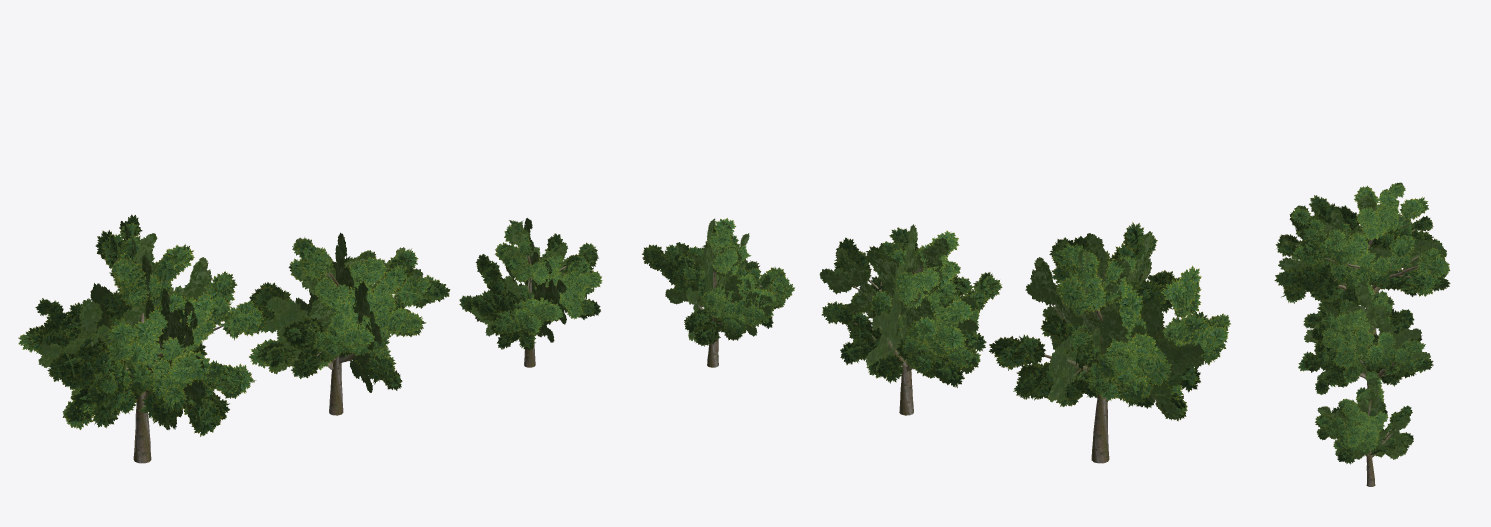
The model's file is tree_oak.glb.
3 views of the same model, side by side, from view 1: azimuth 30°, elevation 25°; view 2: azimuth 150°, elevation 25°; view 3: azimuth 270°, elevation 25° (orthographic). The views are drawn at different scales.
Parts seen in each view (by area): view 1: oak_v0_LOD1_leaves, oak_v1_LOD1_leaves, oak_v0_LOD0_leaves, oak_v2_LOD1_leaves, oak_v0_LOD2_impostor, oak_v1_LOD0_leaves, oak_v1_LOD2_impostor, oak_v2_LOD0_leaves, oak_v2_LOD2_impostor; view 2: oak_v0_LOD1_leaves, oak_v1_LOD1_leaves, oak_v0_LOD2_impostor, oak_v0_LOD0_leaves, oak_v2_LOD1_leaves, oak_v1_LOD2_impostor, oak_v1_LOD0_leaves, oak_v2_LOD0_leaves, oak_v2_LOD2_impostor, oak_v0_LOD0_log; view 3: oak_v0_LOD1_leaves, oak_v1_LOD1_leaves, oak_v0_LOD0_leaves, oak_v1_LOD0_leaves, oak_v2_LOD1_leaves, oak_v0_LOD2_impostor, oak_v1_LOD2_impostor, oak_v2_LOD2_impostor, oak_v2_LOD0_leaves.
Boxes of the visible parts, x1,y1,x2,y2 form: oak_v0_LOD1_leaves: (18, 214, 266, 436); oak_v1_LOD1_leaves: (249, 237, 450, 390); oak_v0_LOD0_leaves: (22, 217, 259, 428); oak_v2_LOD1_leaves: (459, 220, 602, 350); oak_v0_LOD2_impostor: (38, 221, 212, 455); oak_v1_LOD0_leaves: (252, 242, 446, 386); oak_v1_LOD2_impostor: (264, 232, 423, 409); oak_v2_LOD0_leaves: (464, 223, 599, 348); oak_v2_LOD2_impostor: (470, 218, 595, 364); oak_v0_LOD1_leaves: (989, 222, 1230, 421); oak_v1_LOD1_leaves: (821, 227, 1002, 387); oak_v0_LOD2_impostor: (1025, 231, 1204, 460); oak_v0_LOD0_leaves: (993, 227, 1230, 416); oak_v2_LOD1_leaves: (642, 218, 794, 346); oak_v1_LOD2_impostor: (819, 224, 978, 410); oak_v1_LOD0_leaves: (825, 232, 998, 382); oak_v2_LOD0_leaves: (649, 224, 792, 343); oak_v2_LOD2_impostor: (653, 218, 772, 348); oak_v0_LOD0_log: (1092, 395, 1108, 452); oak_v0_LOD1_leaves: (1274, 183, 1450, 318); oak_v1_LOD1_leaves: (1298, 265, 1433, 394); oak_v0_LOD0_leaves: (1279, 184, 1448, 318); oak_v1_LOD0_leaves: (1303, 268, 1429, 391); oak_v2_LOD1_leaves: (1315, 370, 1413, 464); oak_v0_LOD2_impostor: (1278, 182, 1446, 303); oak_v1_LOD2_impostor: (1301, 281, 1430, 381); oak_v2_LOD2_impostor: (1317, 378, 1411, 484); oak_v2_LOD0_leaves: (1318, 373, 1409, 460).
Size of the model in its own units: 36.51 by 23.28 by 15.5.
Materials: 4 (4 with a texture image).
